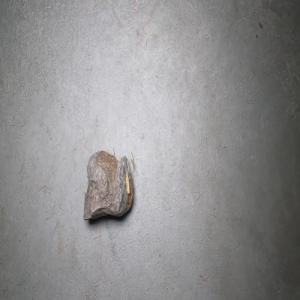Rock: (83, 147, 134, 220)
